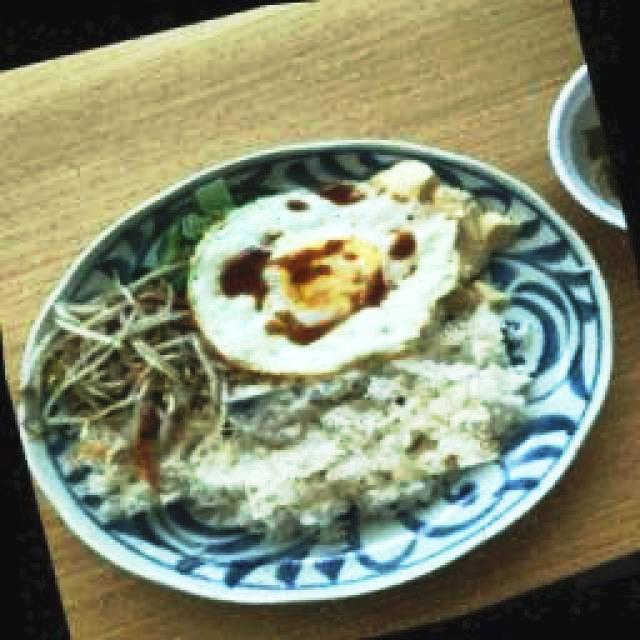fried_eggs: (190, 191, 455, 373)
mung_bean_sprouts: (33, 273, 223, 437)
rice: (156, 303, 519, 527)
